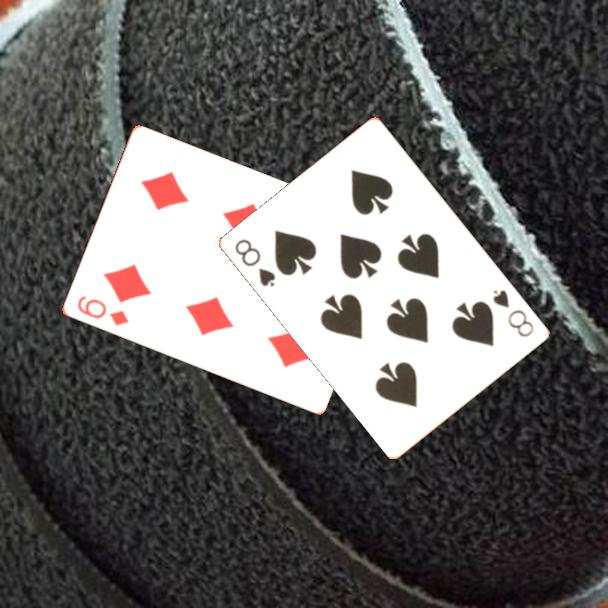d06: (73, 292, 131, 329)
s08: (489, 286, 537, 340), (232, 235, 279, 290)
